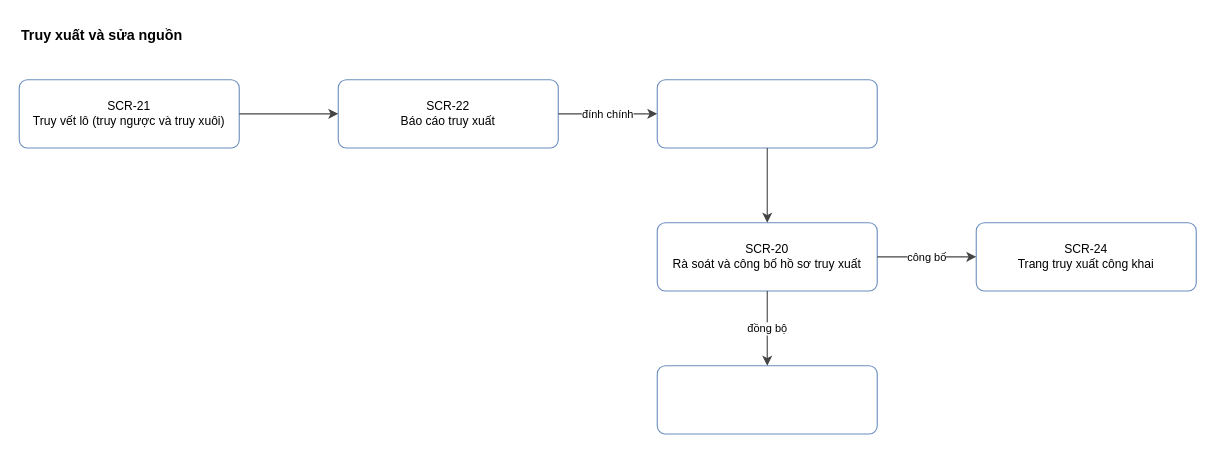
The diagram is 1216 pixels wide and 453 high, and some of its shapes have lost their labels. Here are the shapes that lost their labels. From the top down, the centre of each, then its label:
the point at 766,113: SCR-23 Đính chính dữ liệu nguồn gốc
the point at 766,399: SCR-25 Hàng đợi đồng bộ cổng truy xuất
